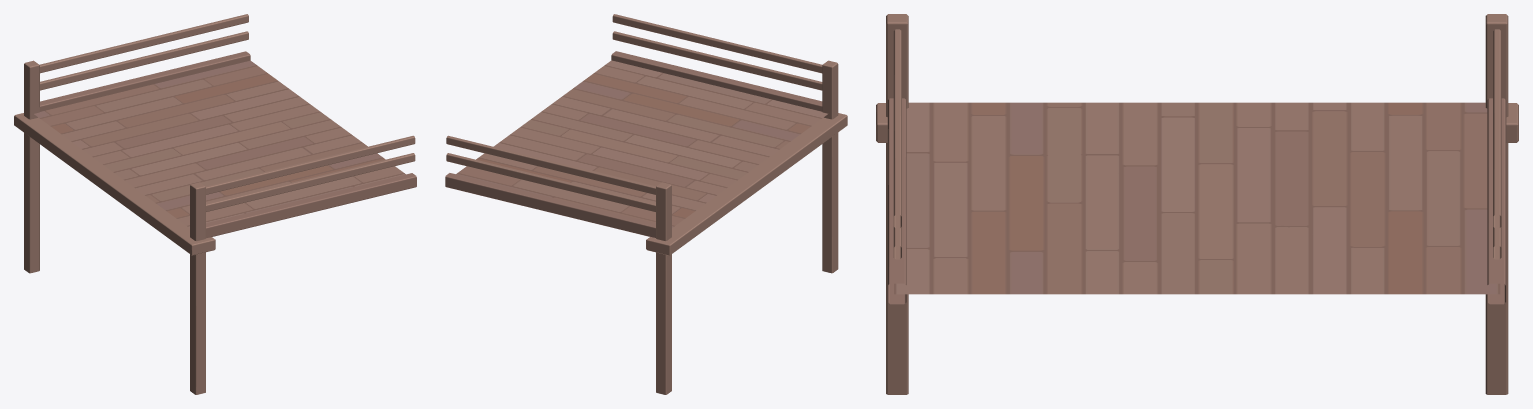
Rendered from BoardWalkDoubleSided.fbx.
3 views of the same model, side by side, from view 1: azimuth 30°, elevation 25°; view 2: azimuth 150°, elevation 25°; view 3: azimuth 270°, elevation 25° (orthographic). The views are drawn at different scales.
Parts seen in each view (by area): view 1: BoardWalkDoubleSided; view 2: BoardWalkDoubleSided; view 3: BoardWalkDoubleSided.
Boxes of the visible parts, x1,y1,x2,y2 form: BoardWalkDoubleSided: (14, 14, 416, 394); BoardWalkDoubleSided: (445, 14, 847, 394); BoardWalkDoubleSided: (876, 14, 1518, 394).
Size of the model in its own units: 628 by 542 by 848.
